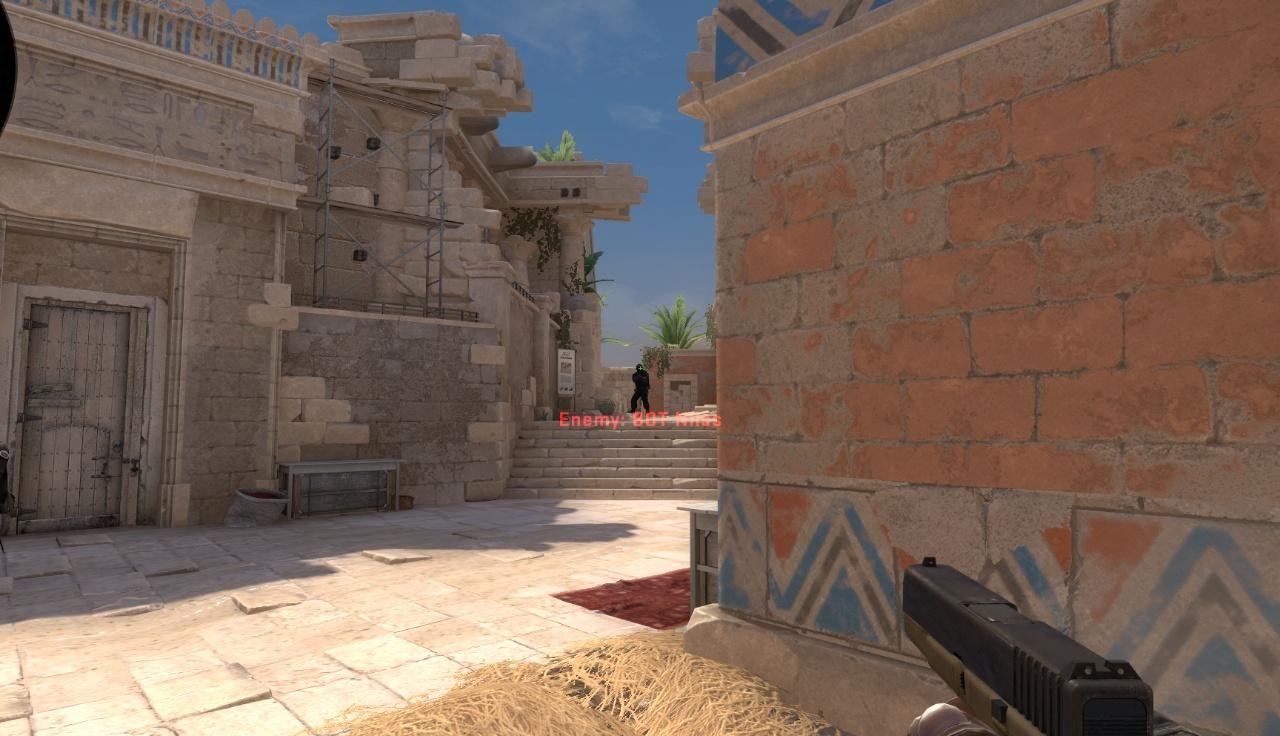ct: (632, 365, 649, 412)
cthead: (636, 364, 643, 372)
pistol: (902, 556, 1158, 736)
